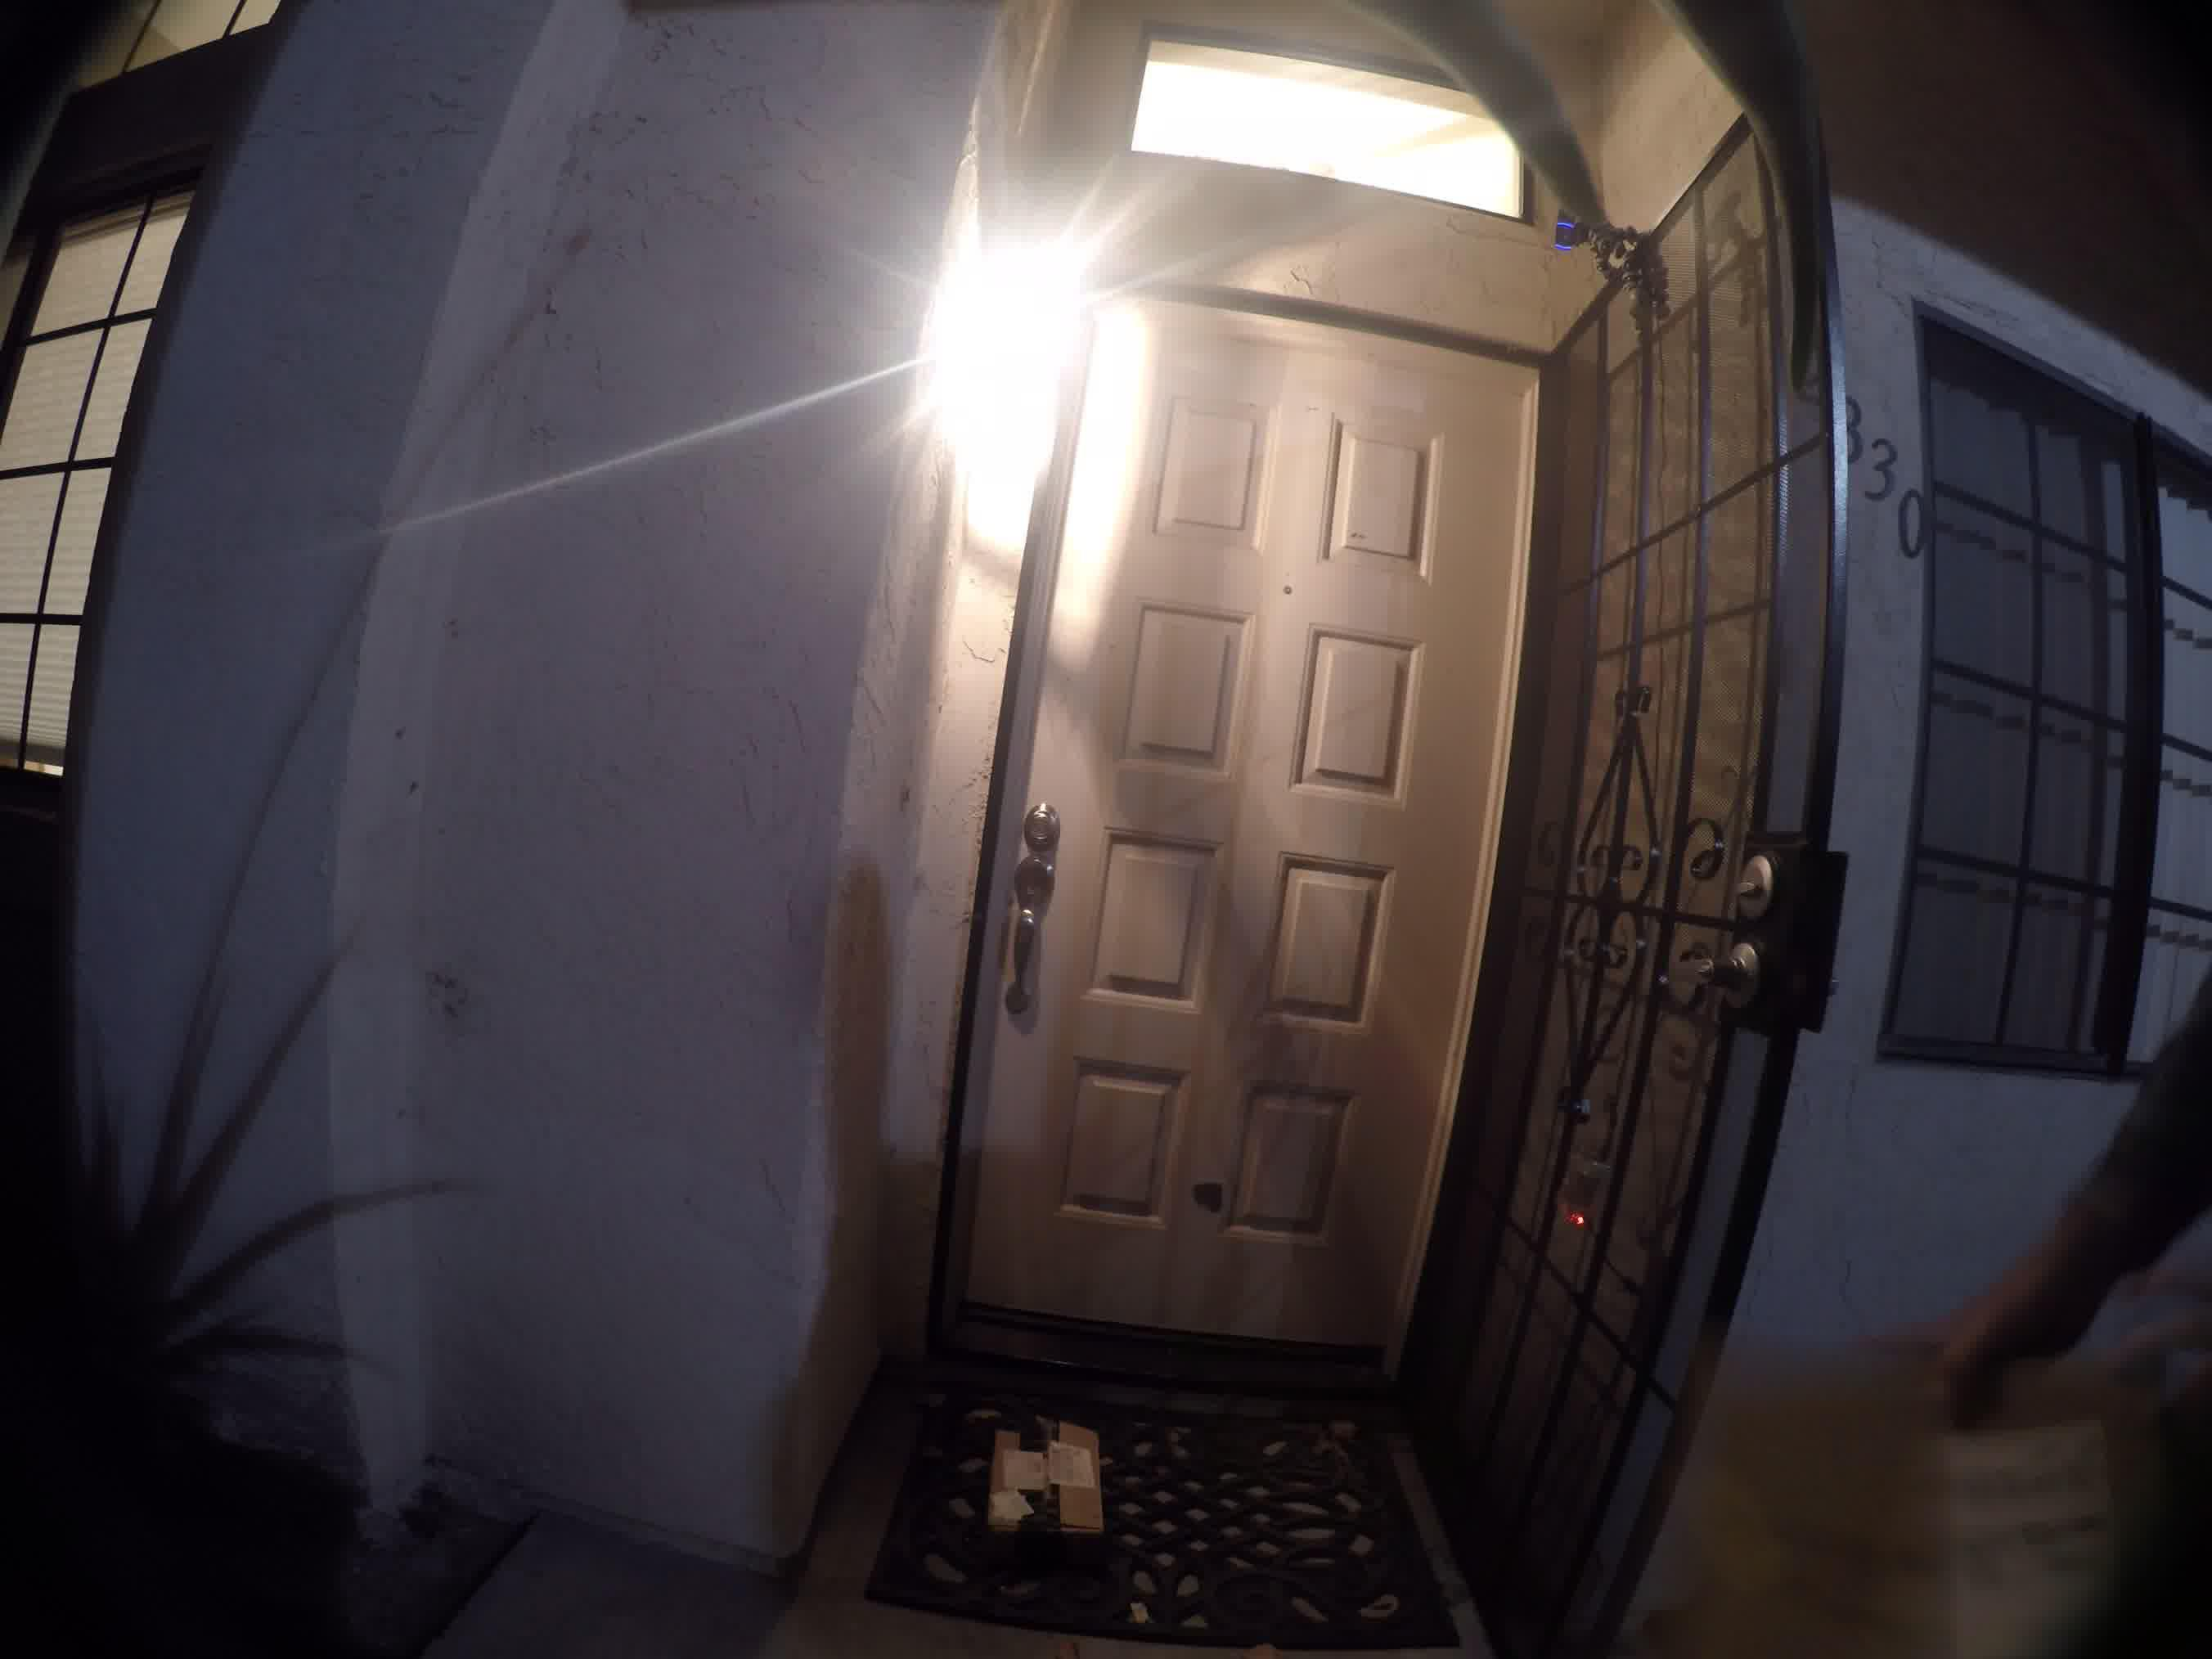box: (977, 1406, 1109, 1563)
